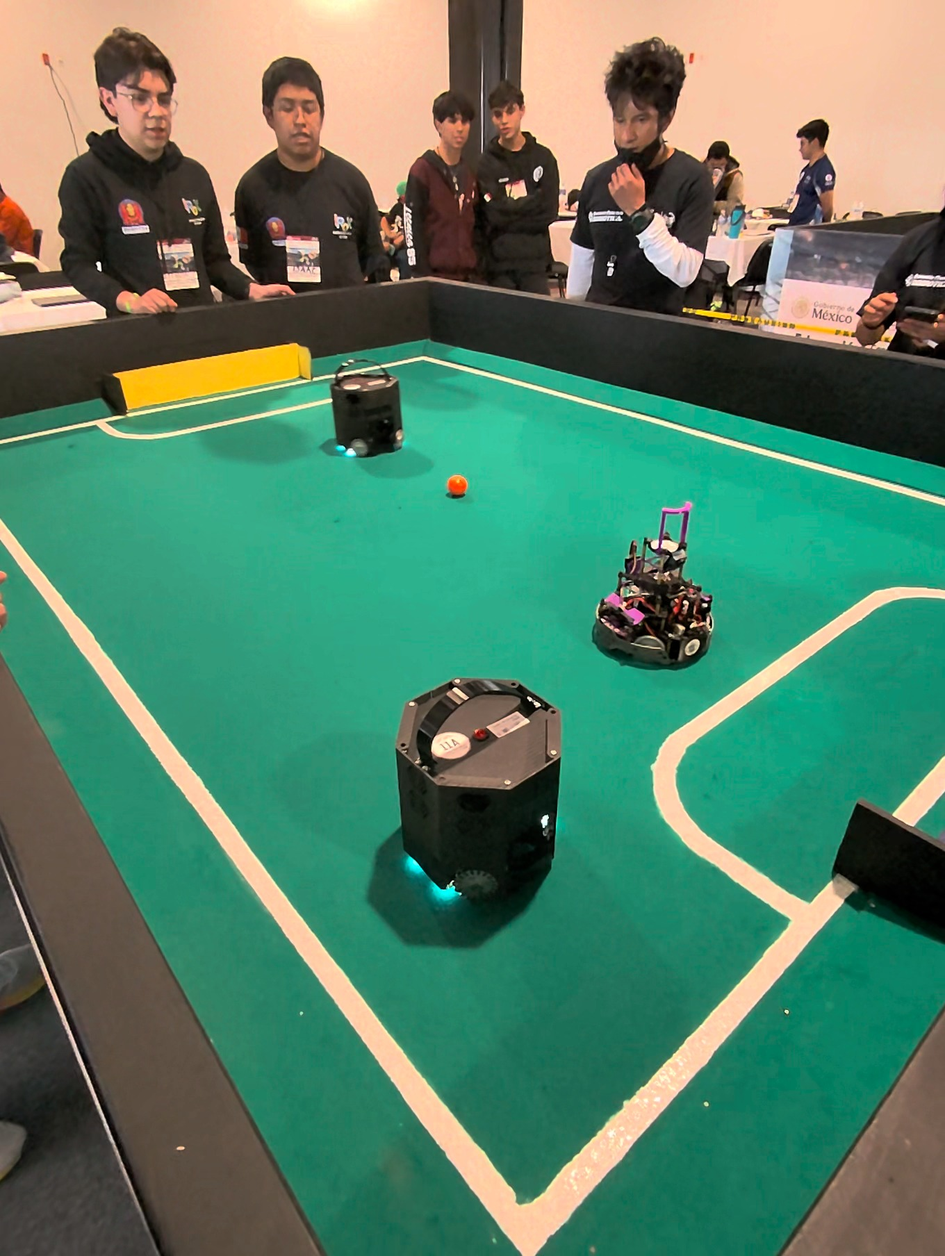Robot: (389, 642, 558, 953), (592, 507, 714, 677), (322, 353, 407, 475)
pelota: (449, 476, 470, 498)
